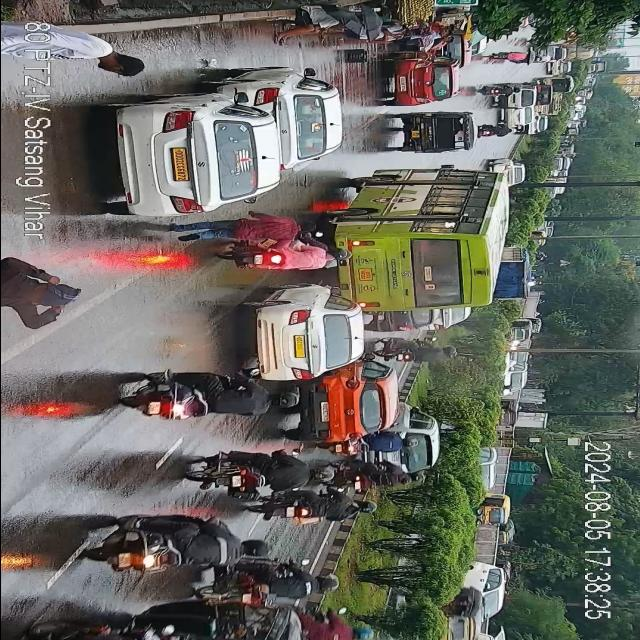2-wheelers: (78, 522, 264, 573), (192, 452, 354, 502), (128, 369, 295, 415), (220, 557, 334, 603), (250, 484, 370, 526), (220, 244, 346, 272), (1, 621, 180, 640), (372, 338, 454, 363), (301, 609, 366, 640), (479, 84, 521, 96), (476, 125, 516, 137), (484, 52, 532, 62), (534, 56, 554, 64)
auto: (143, 596, 292, 640), (392, 112, 472, 156), (442, 591, 488, 637), (472, 493, 508, 527), (488, 398, 516, 435), (506, 322, 532, 340), (550, 77, 572, 93)
bus: (324, 172, 506, 324)
car: (106, 78, 276, 218), (248, 289, 362, 386), (240, 72, 340, 168), (316, 358, 396, 443), (167, 218, 310, 248), (388, 401, 438, 483), (453, 566, 506, 640), (389, 53, 452, 107), (366, 308, 436, 334), (502, 81, 534, 131), (441, 34, 489, 64), (429, 308, 477, 336), (499, 366, 527, 394), (497, 158, 524, 186), (479, 450, 496, 488), (516, 116, 547, 134), (546, 60, 572, 80), (534, 80, 550, 110), (542, 46, 568, 58)
pedestrian: (0, 261, 84, 329), (44, 39, 140, 81), (279, 7, 349, 48), (384, 25, 448, 51)
truck: (496, 248, 532, 304), (532, 103, 560, 117)
